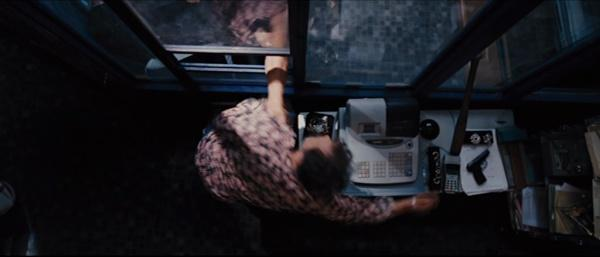Gun: (466, 149, 491, 187)
